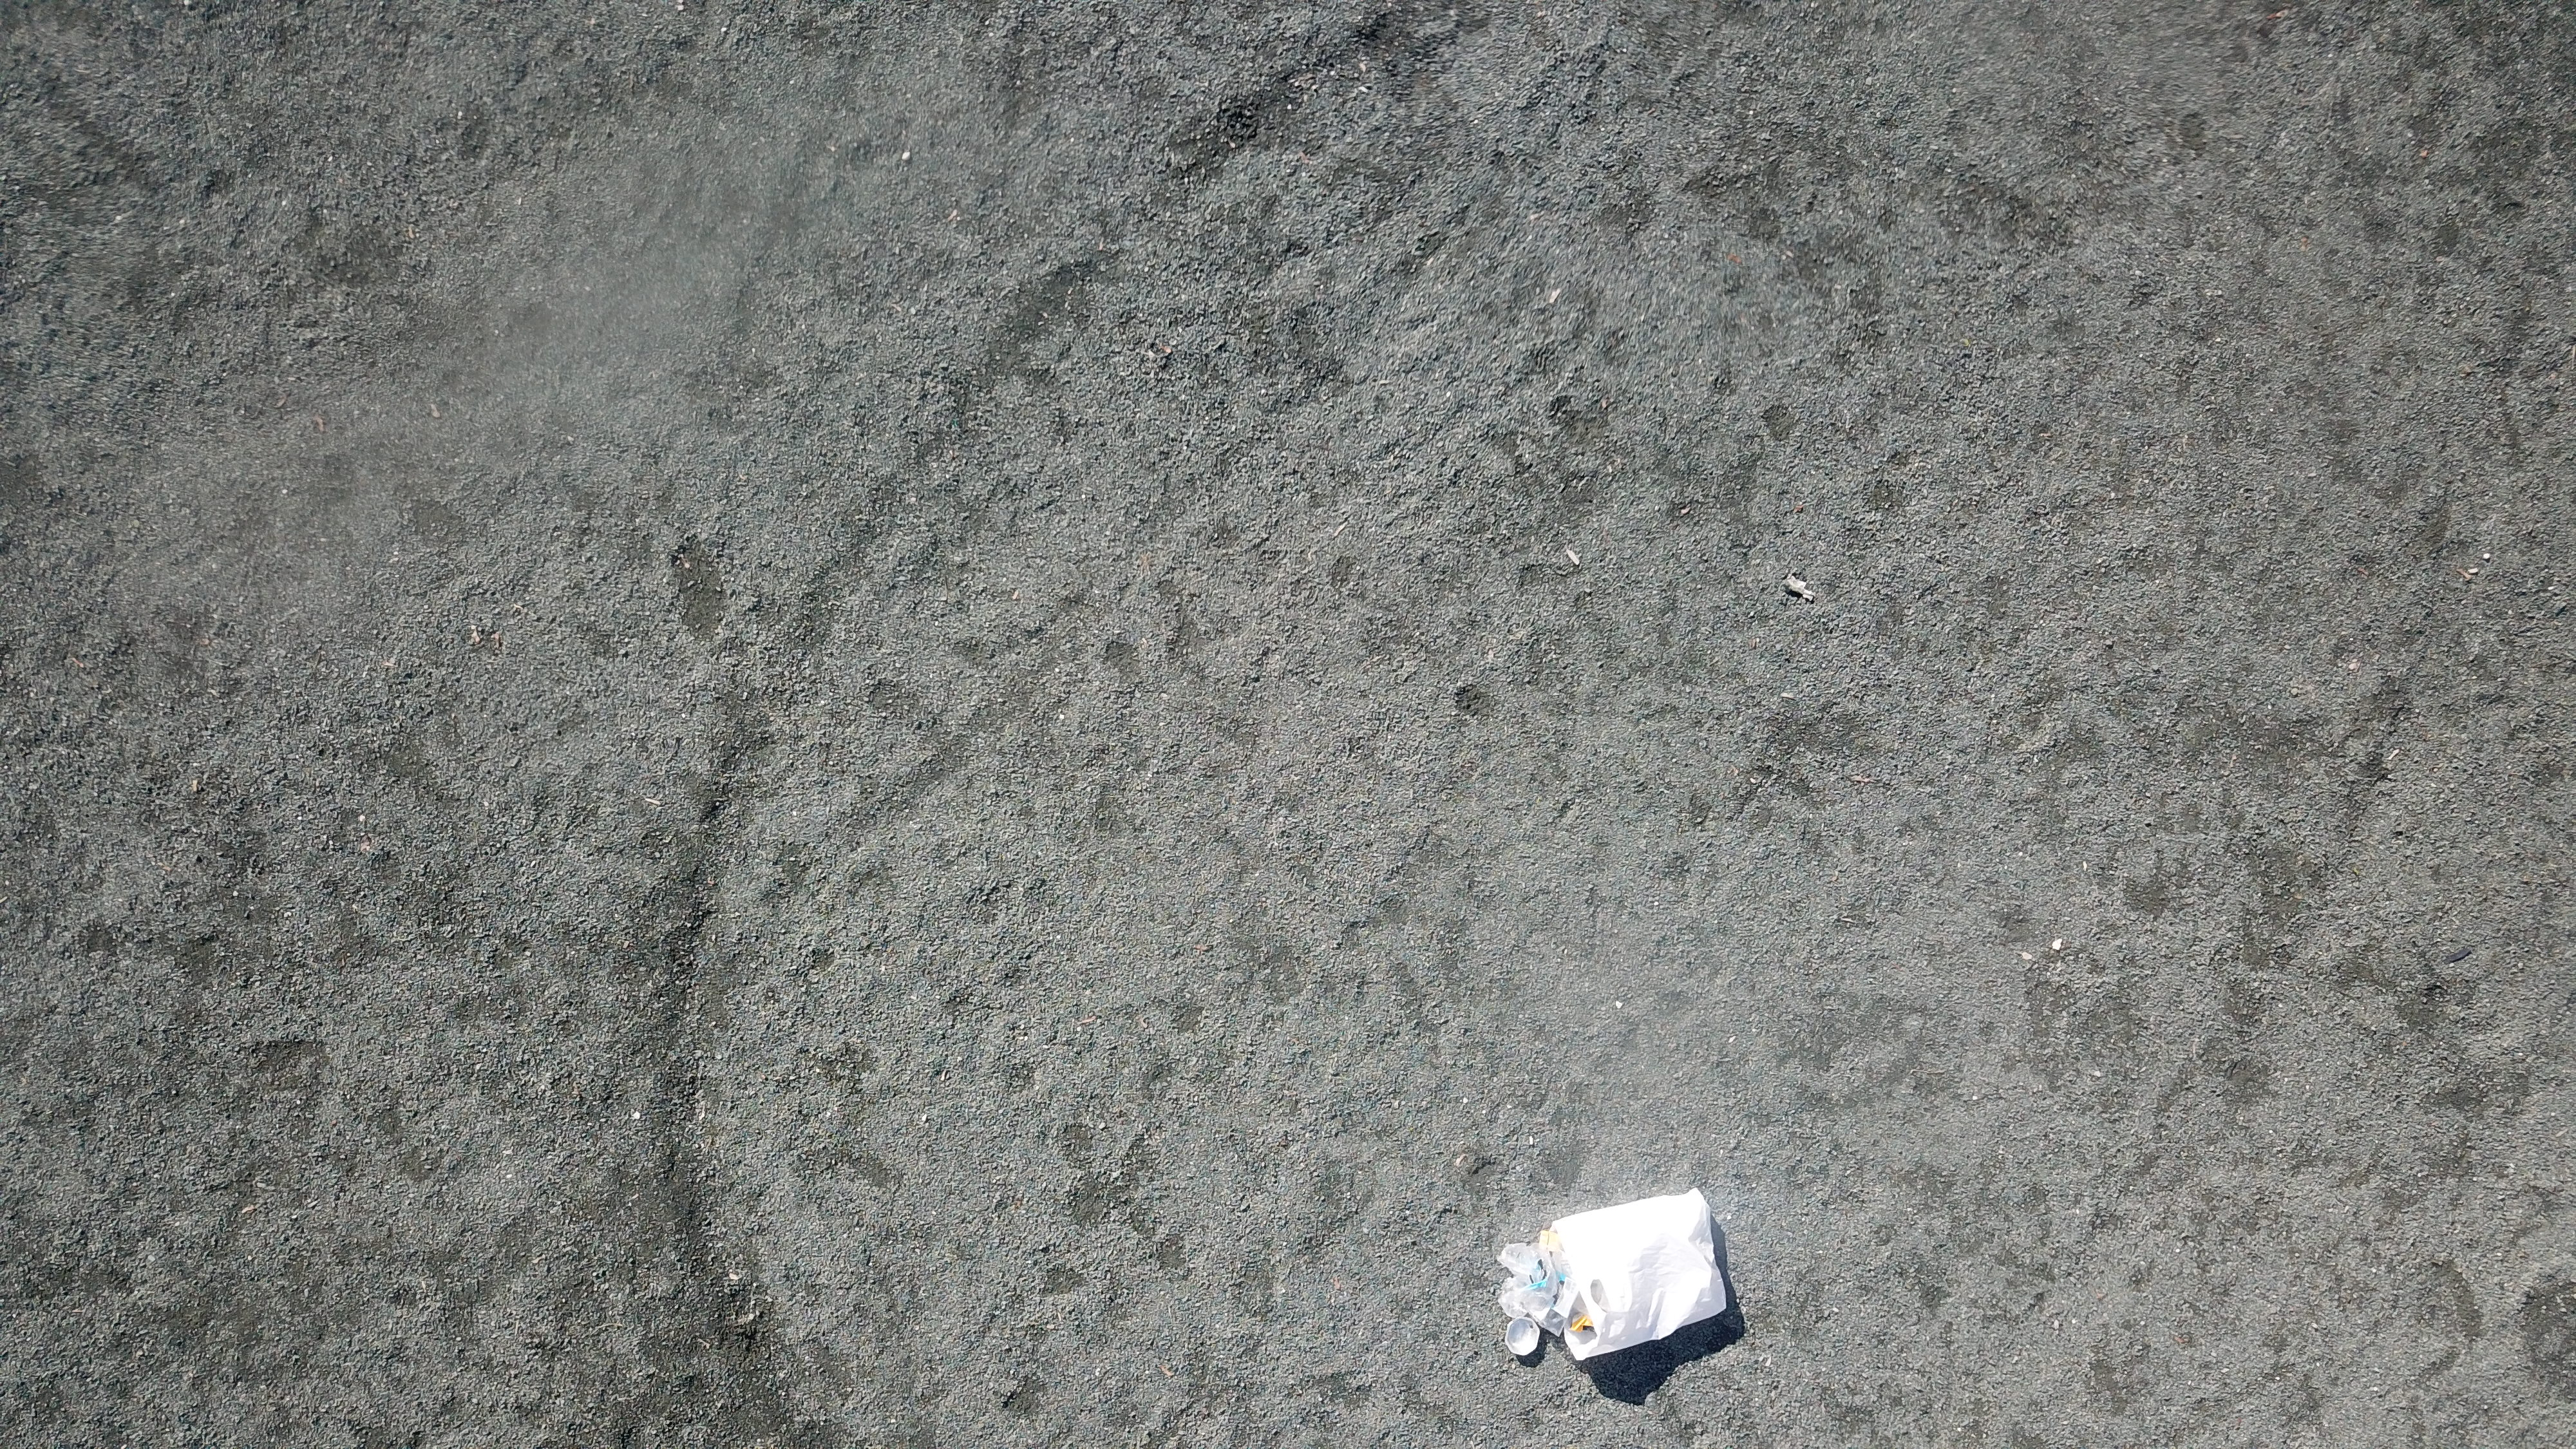Plastic: (1497, 1187, 1729, 1361)
